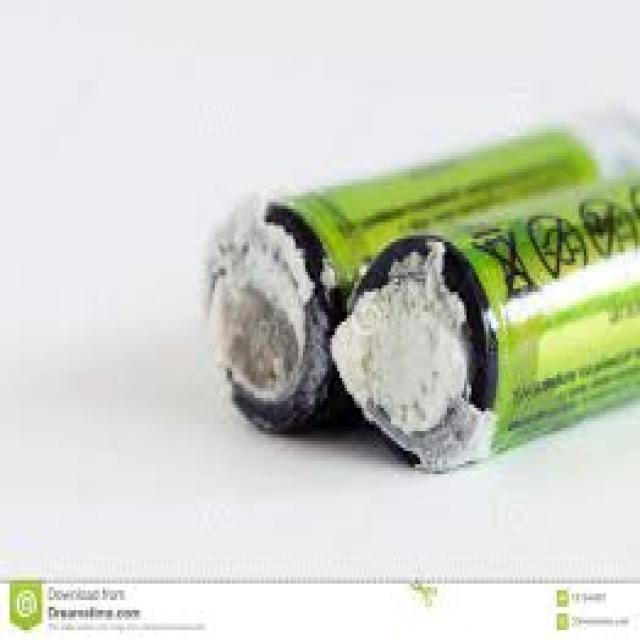battery: (210, 123, 602, 438), (346, 177, 640, 471)
